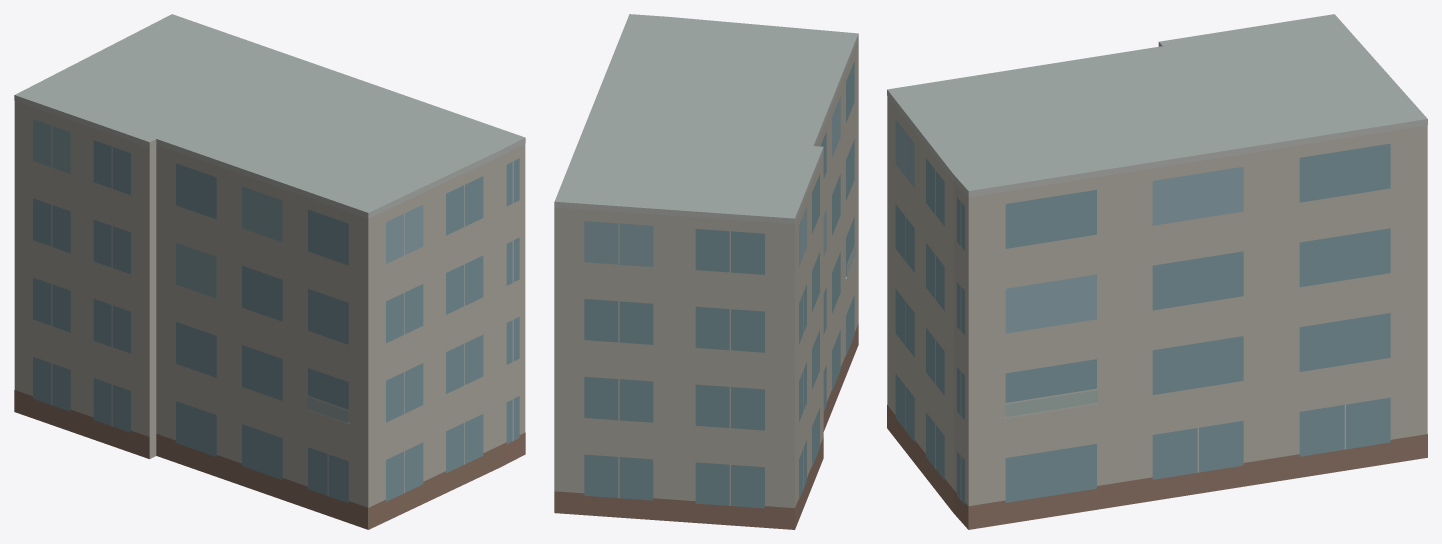
The model's file is survey-upis-32549237.glb.
3 renders of one model, left to right at view 1: azimuth 30°, elevation 25°; view 2: azimuth 150°, elevation 25°; view 3: azimuth 270°, elevation 25°, orthographic. The views are drawn at different scales.
Visible parts, largest first — view 1: survey-upis-32549237.tmp; view 2: survey-upis-32549237.tmp; view 3: survey-upis-32549237.tmp.
Part boxes in pixels (x1,y1,x2,y2): survey-upis-32549237.tmp: (14,14,525,529); survey-upis-32549237.tmp: (554,14,858,529); survey-upis-32549237.tmp: (887,14,1427,529).
Size of the model in its own units: 15.02 by 13.38 by 19.37.
